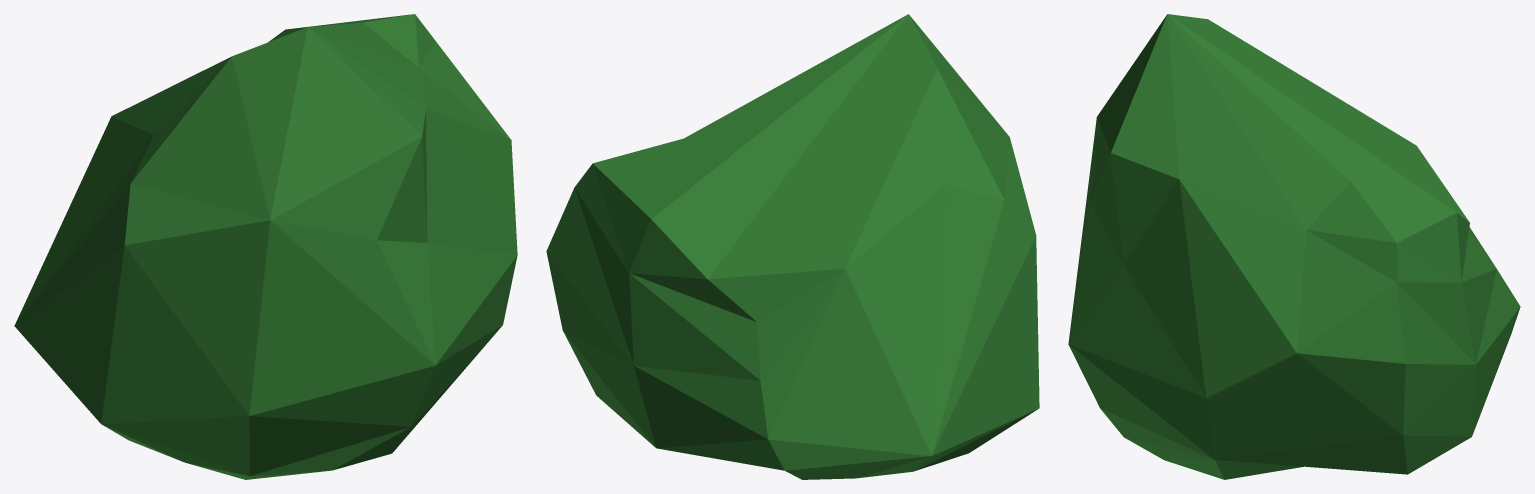
The model's file is shrub_3.obj.
3 renders of one model, left to right at view 1: azimuth 30°, elevation 25°; view 2: azimuth 150°, elevation 25°; view 3: azimuth 270°, elevation 25°, orthographic. The views are drawn at different scales.
Parts seen in each view (by area): view 1: shrub_3 shrubs; view 2: shrub_3 shrubs; view 3: shrub_3 shrubs.
Part boxes in pixels (bbox=[...]): shrub_3 shrubs: bbox=[14, 14, 517, 479]; shrub_3 shrubs: bbox=[546, 14, 1039, 479]; shrub_3 shrubs: bbox=[1068, 14, 1520, 479].
Bounding box in the file's own units: 9.08 × 8.78 × 8.4.
